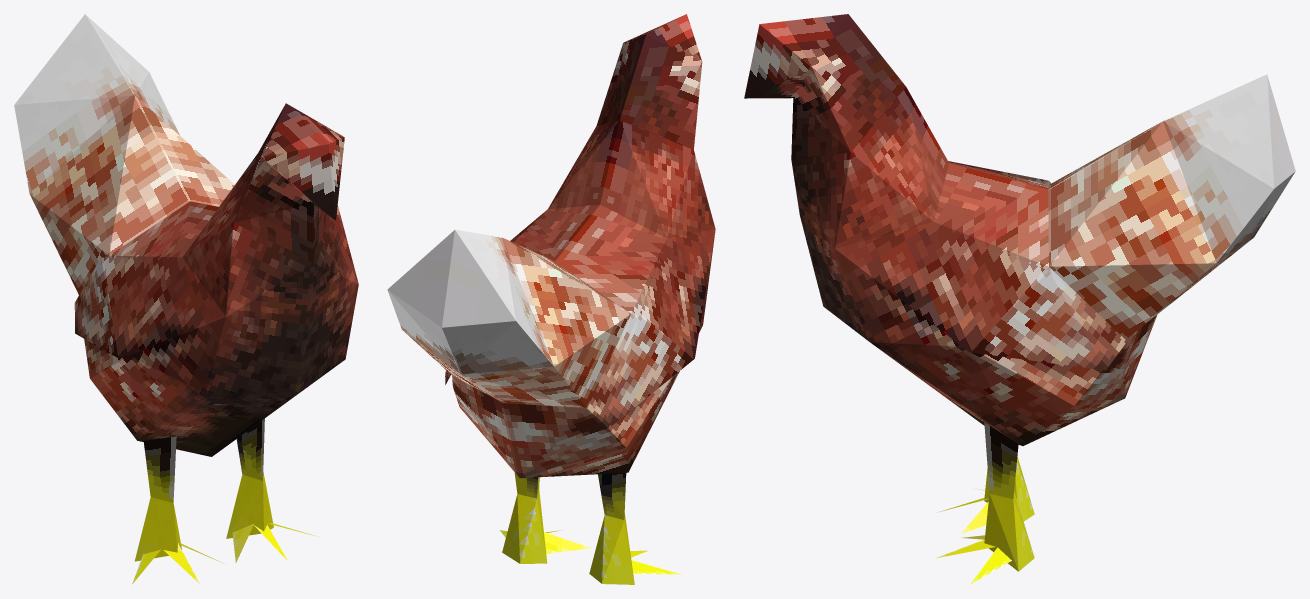
File: chicken.glb
3 renders of one model, left to right at view 1: azimuth 30°, elevation 25°; view 2: azimuth 150°, elevation 25°; view 3: azimuth 270°, elevation 25°, orthographic. The views are drawn at different scales.
Bounding box in the file's own units: 0.0094 × 0.0206 × 0.0197.
Materials: 1 (1 with a texture image).
